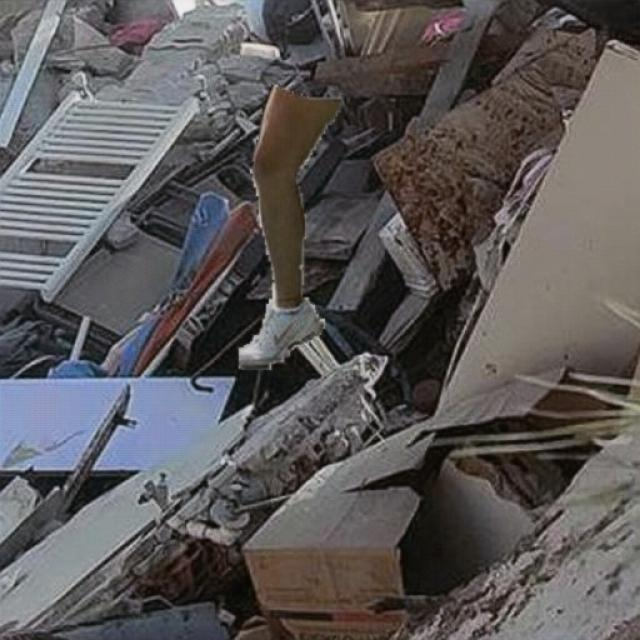Person in Rubble: (239, 82, 340, 368)
